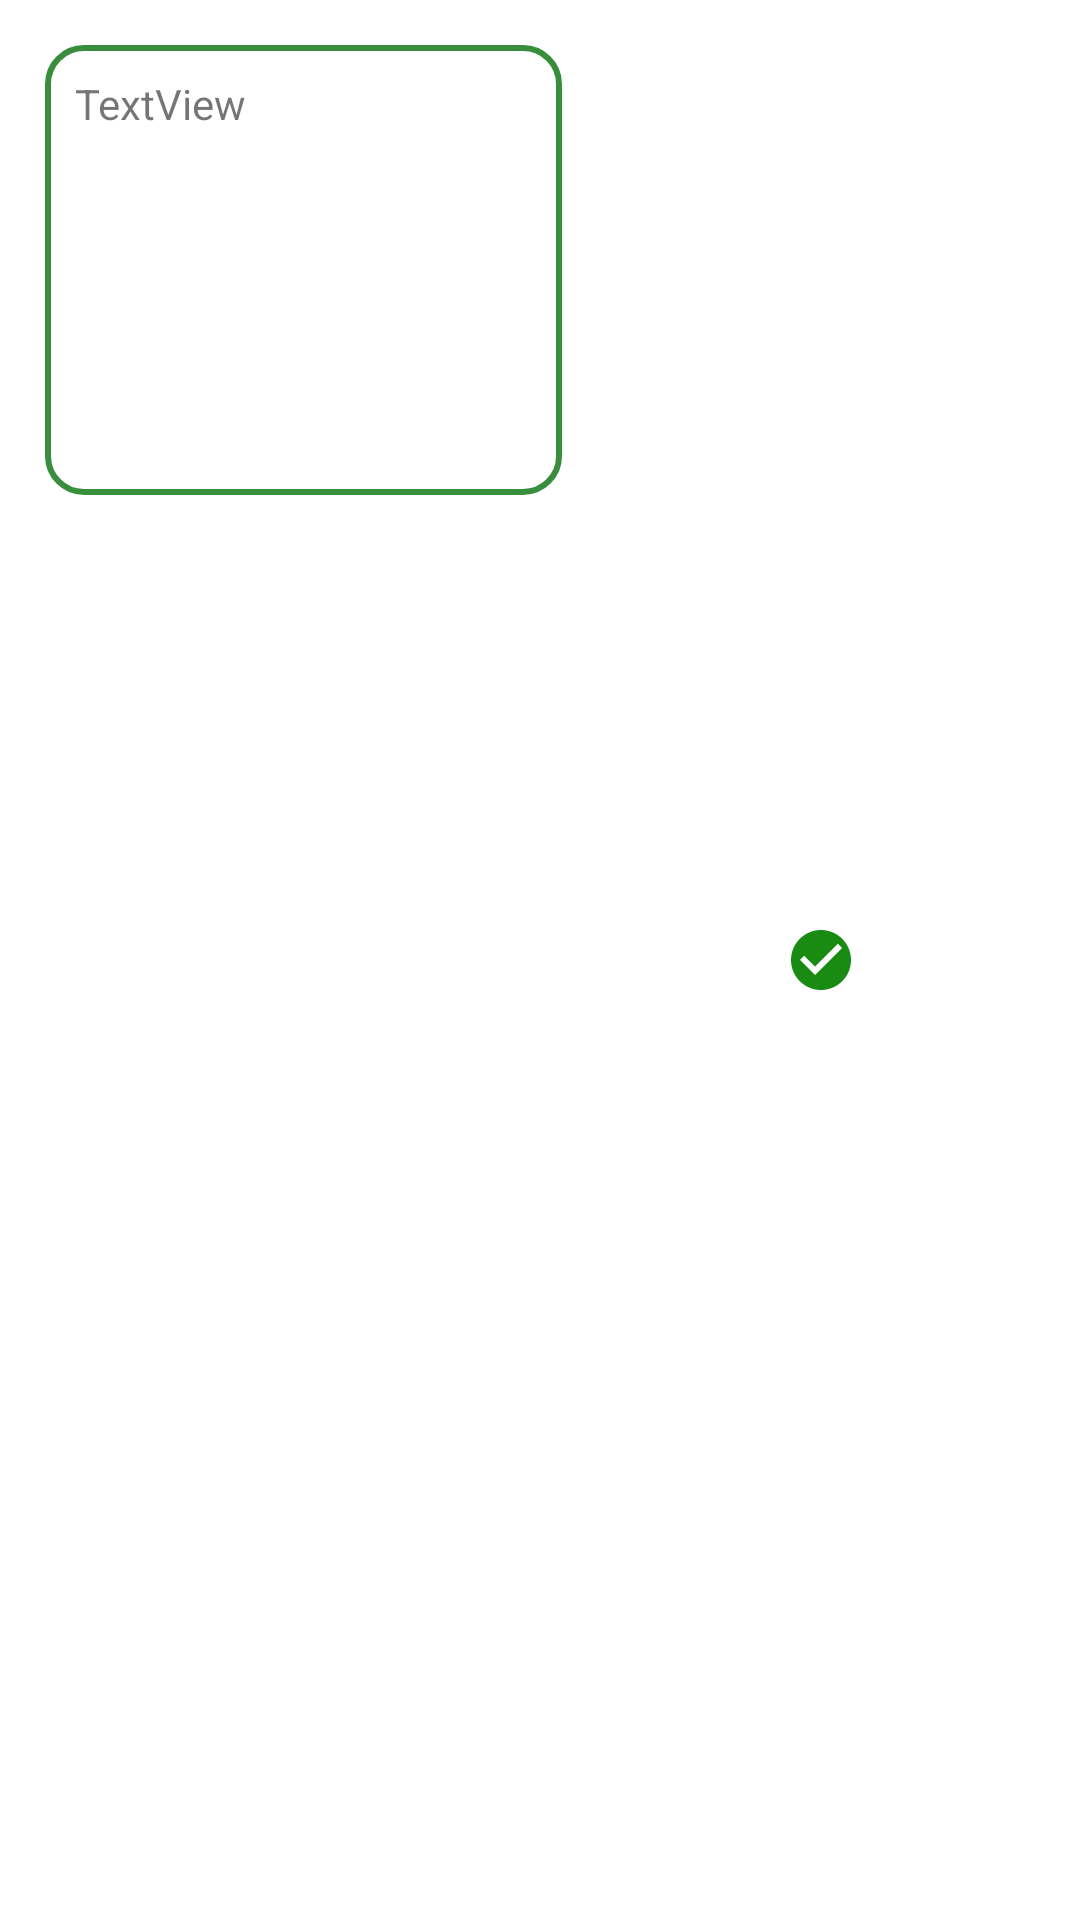

Where to tap for icons on this 1080*1920 app screen, as (x=x, y=y):
Confirm button: (x=821, y=960)
